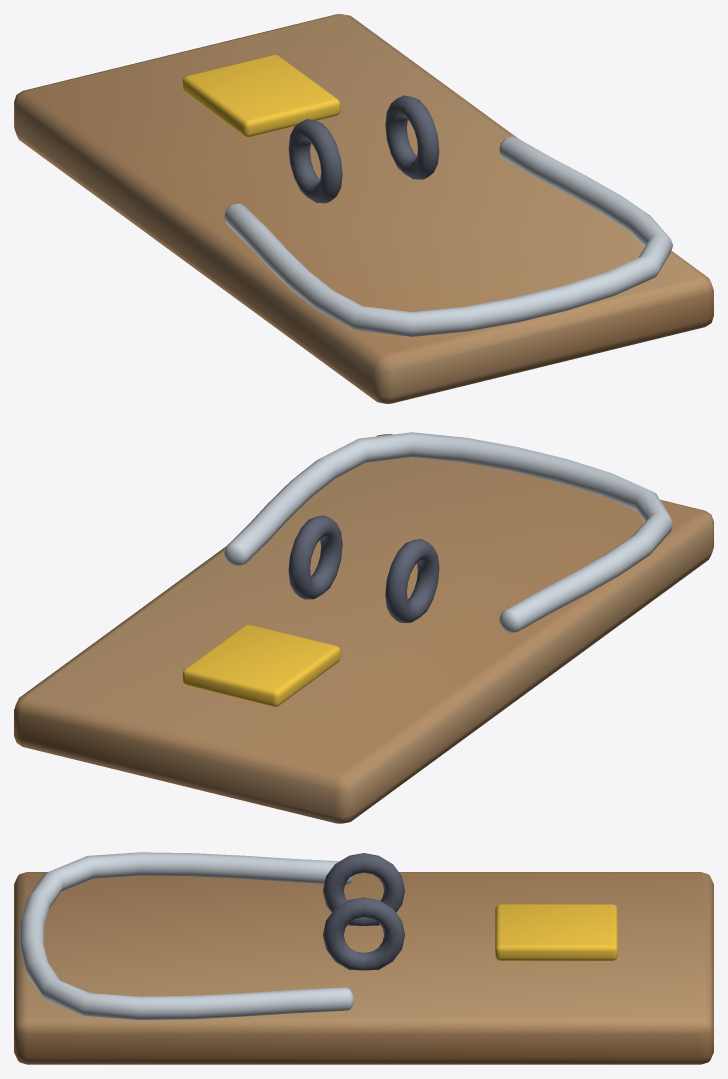
The model's file is mausefalle.glb.
3 views of the same model, one above another, from view 1: azimuth 30°, elevation 25°; view 2: azimuth 150°, elevation 25°; view 3: azimuth 270°, elevation 25° (orthographic). The views are drawn at different scales.
Parts seen in each view (by area): view 1: mausefalle-matt, mausefalle-metall; view 2: mausefalle-matt, mausefalle-metall; view 3: mausefalle-matt, mausefalle-metall.
Part boxes in pixels (box(x1,y1,x2,y2)): mausefalle-matt: box(14, 14, 713, 403); mausefalle-metall: box(182, 55, 672, 336); mausefalle-matt: box(14, 434, 713, 823); mausefalle-metall: box(182, 432, 672, 706); mausefalle-matt: box(14, 872, 713, 1064); mausefalle-metall: box(20, 852, 617, 1020).
Size of the model in its own units: 0.42 by 0.147 by 0.8.
